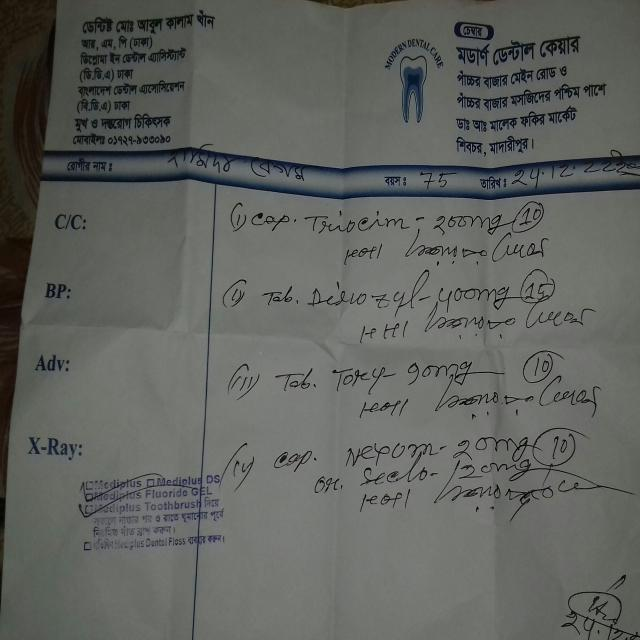Dirozyl: (309, 280, 426, 317)
Nexum: (337, 437, 441, 466)
Tory: (332, 364, 393, 396)
Triocim: (303, 201, 410, 237)
